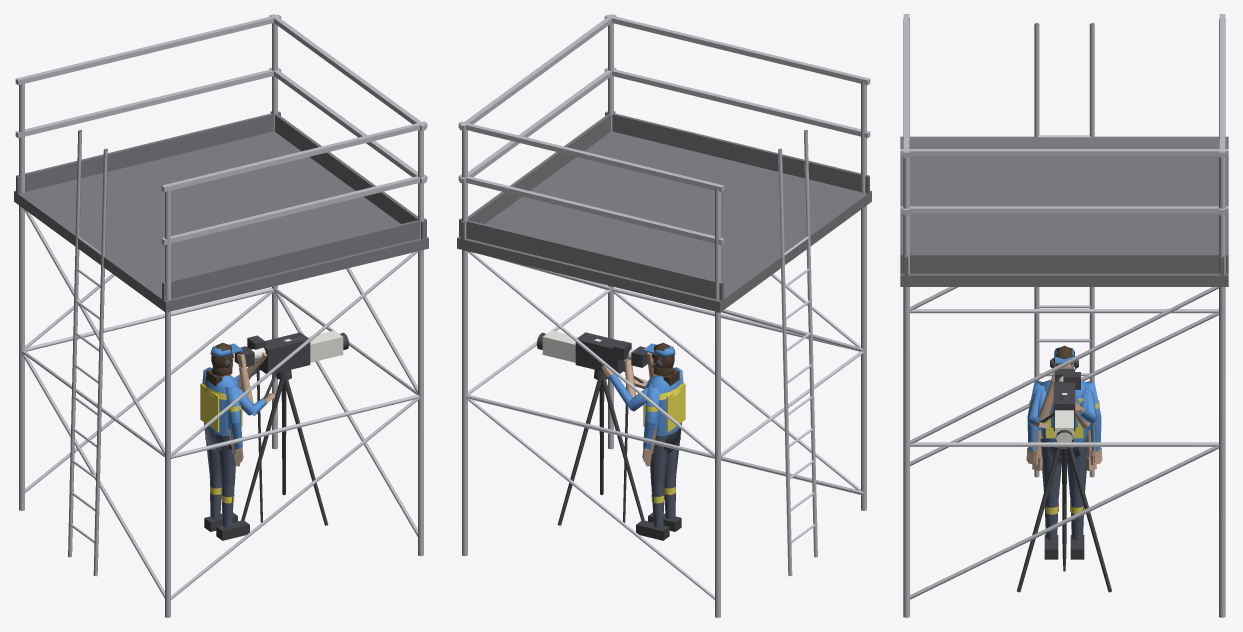
File: people.glb
3 views of the same model, side by side, from view 1: azimuth 30°, elevation 25°; view 2: azimuth 150°, elevation 25°; view 3: azimuth 270°, elevation 25° (orthographic). The views are drawn at different scales.
Visible parts, largest first — view 1: tv_platform, camera_operator, photographer, crowd_d, crew, crowd_b; view 2: tv_platform, camera_operator, crowd_d, photographer, crew, crowd_b; view 3: tv_platform, camera_operator, crowd_d, crew, photographer, crowd_b.
Part boxes in pixels (bbox=[...]): tv_platform: bbox=[14, 14, 428, 617]; camera_operator: bbox=[206, 330, 349, 540]; photographer: bbox=[200, 335, 303, 539]; crowd_d: bbox=[202, 342, 249, 540]; crew: bbox=[204, 353, 244, 530]; crowd_b: bbox=[206, 363, 240, 531]; tv_platform: bbox=[457, 14, 871, 617]; camera_operator: bbox=[536, 330, 679, 540]; crowd_d: bbox=[636, 342, 683, 540]; photographer: bbox=[582, 335, 685, 539]; crew: bbox=[642, 353, 681, 530]; crowd_b: bbox=[645, 363, 679, 531]; tv_platform: bbox=[900, 14, 1228, 617]; camera_operator: bbox=[1017, 359, 1111, 592]; crowd_d: bbox=[1026, 345, 1102, 559]; crew: bbox=[1028, 358, 1100, 549]; photographer: bbox=[1037, 364, 1091, 571]; crowd_b: bbox=[1032, 371, 1096, 540].
Size of the model in its own units: 2.69 by 4.07 by 2.6.
